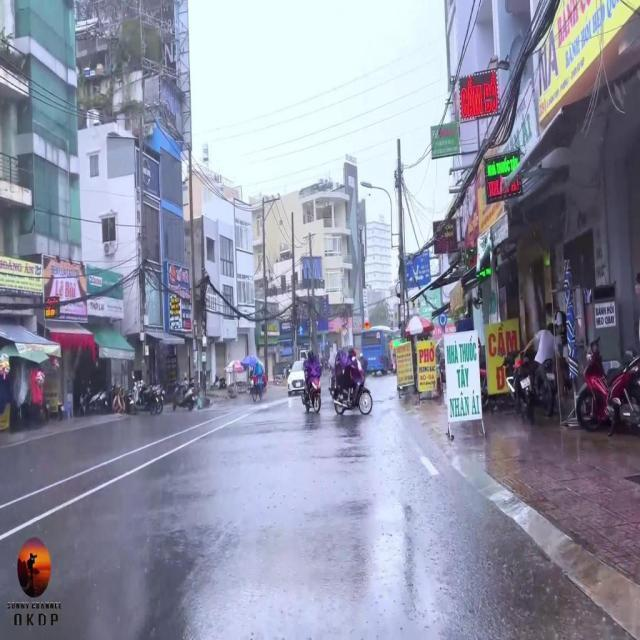303-noi-giao-nhau-chay-theo-vong-xuyen: (439, 313, 447, 327)
